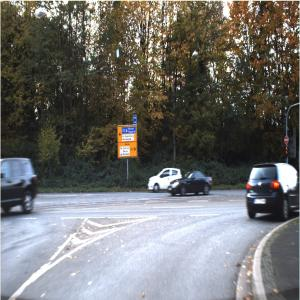NO ENTRY: (285, 136, 289, 145)
